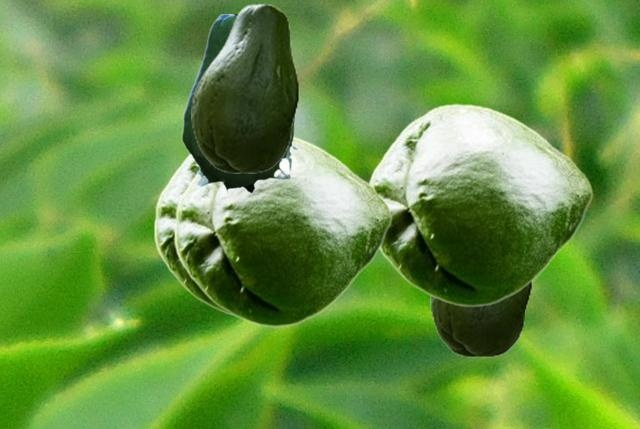sayote: (367, 103, 592, 306), (173, 134, 391, 326), (181, 14, 298, 196), (191, 3, 298, 172), (153, 153, 233, 317), (430, 285, 531, 356)
